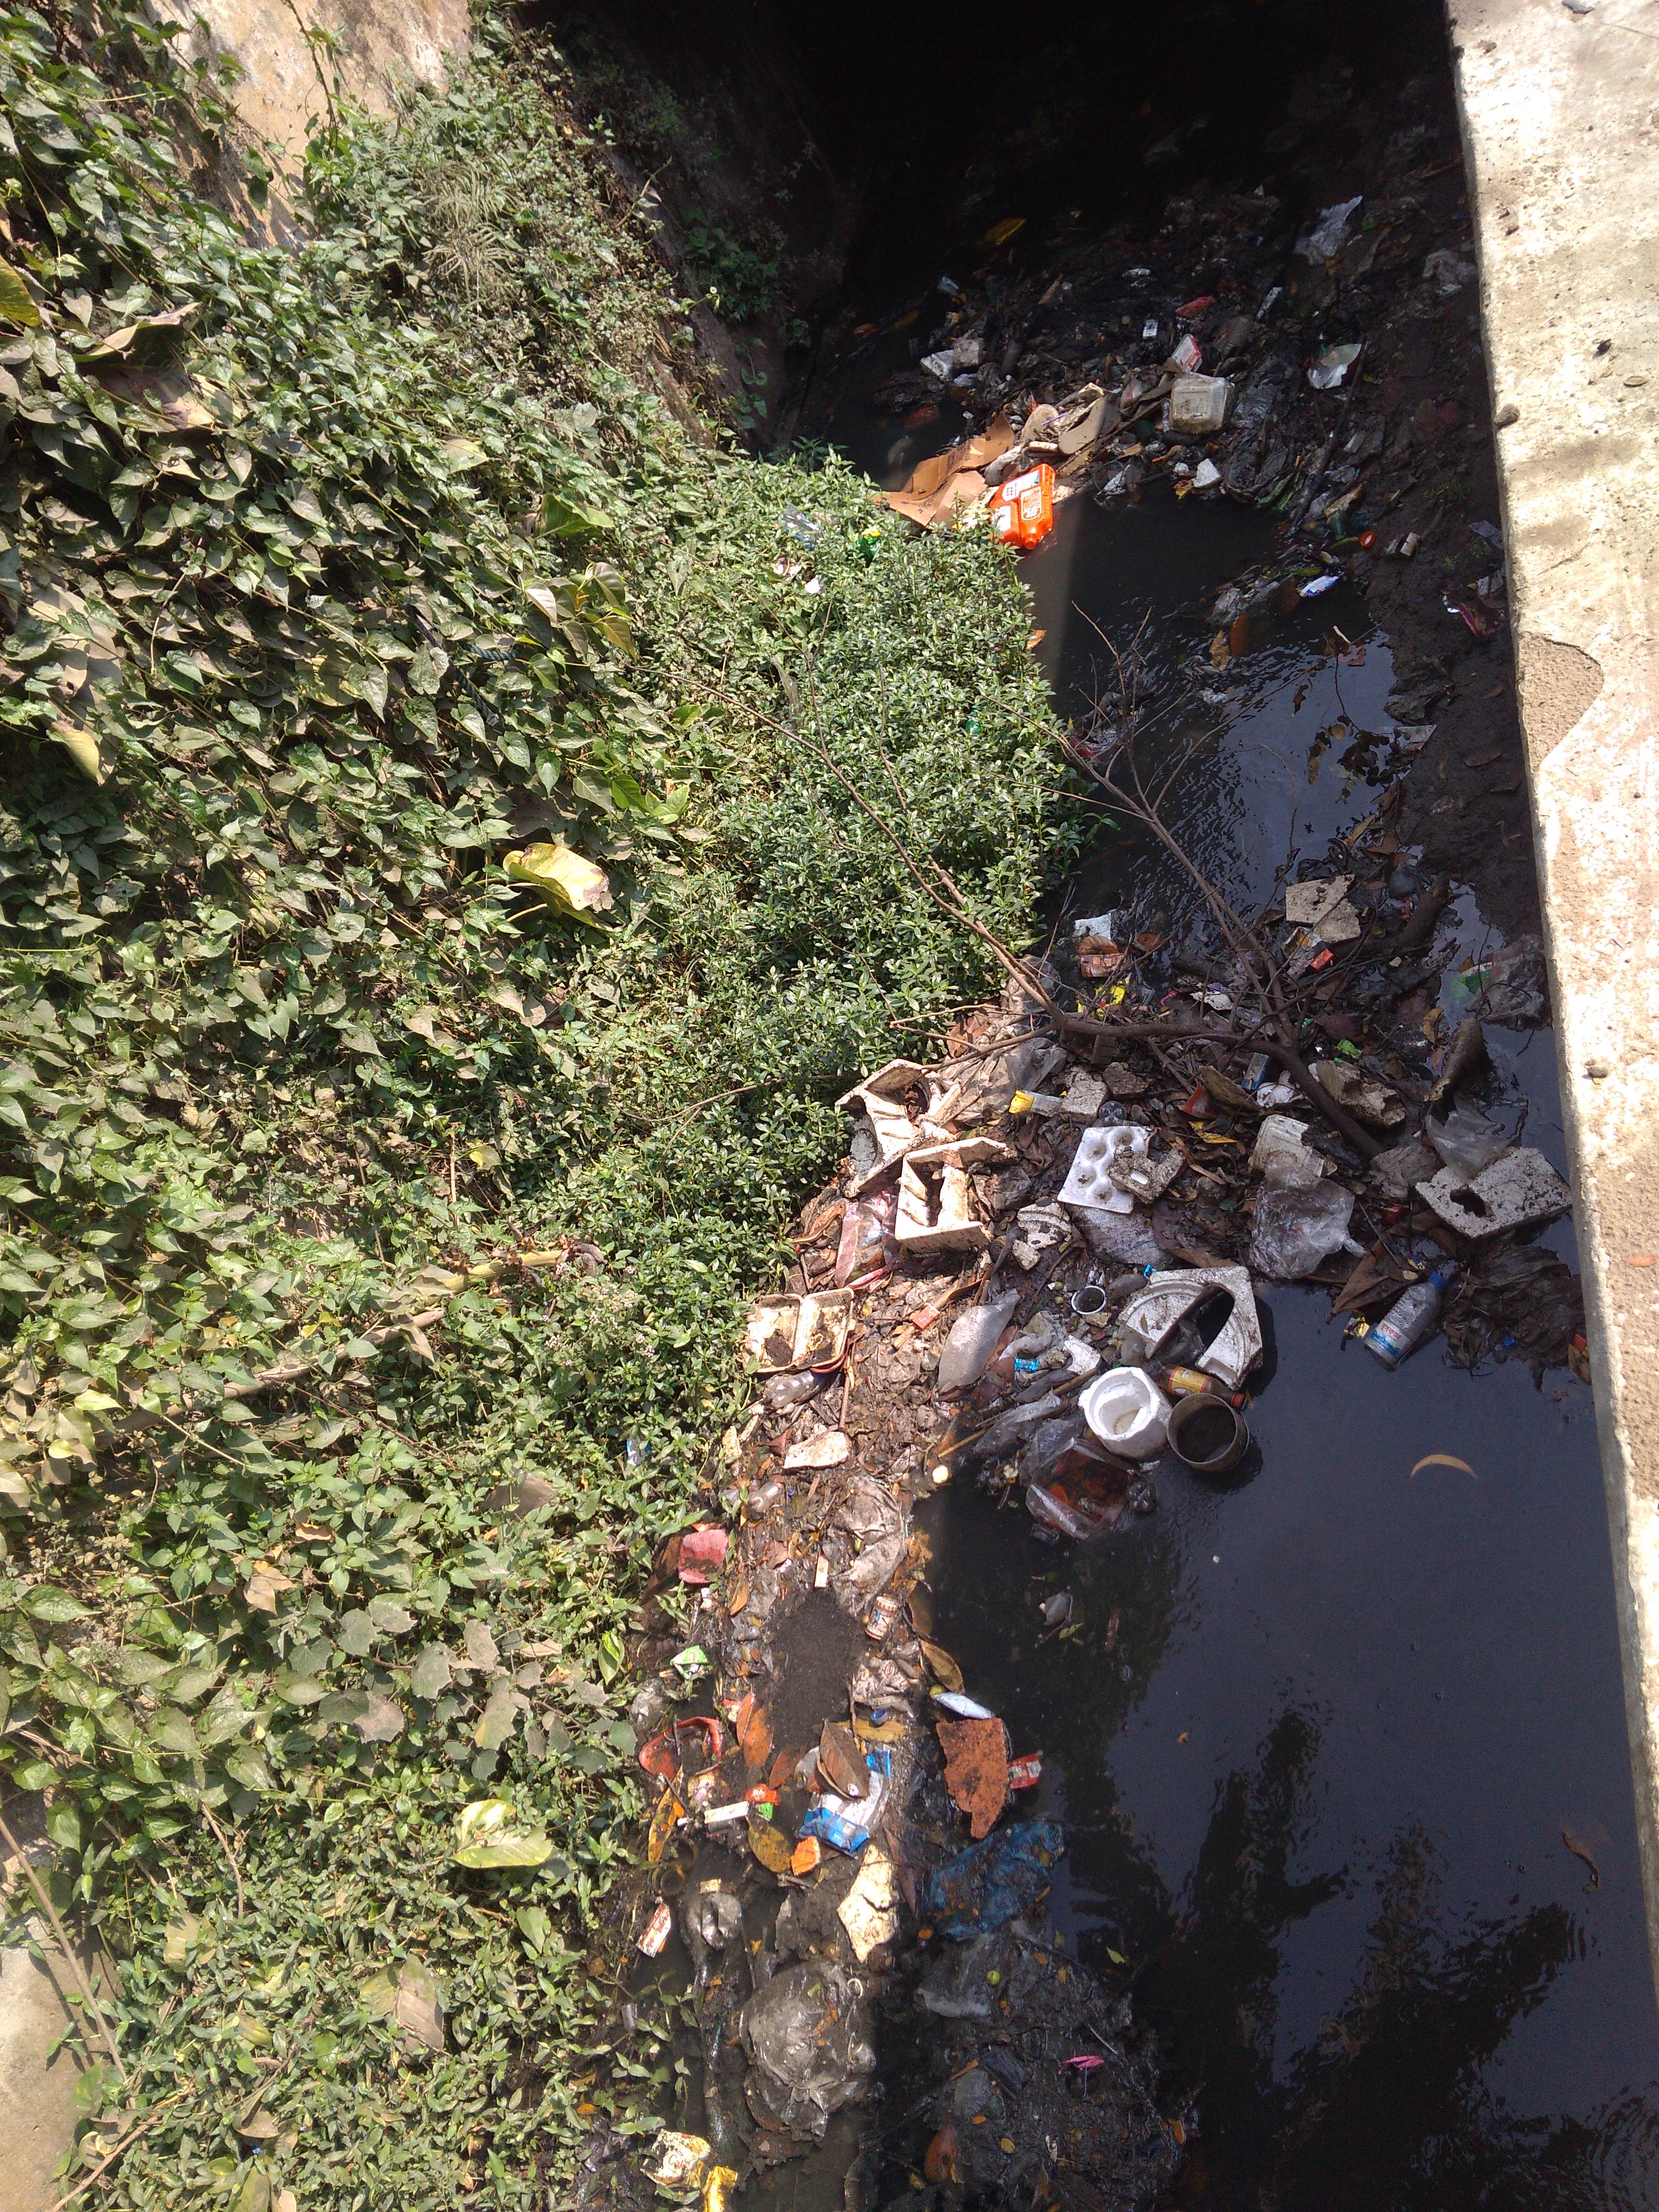Plastic Bottle: (1364, 1271, 1446, 1366), (1159, 1364, 1244, 1407), (988, 462, 1056, 503), (767, 1369, 824, 1407), (1018, 484, 1051, 549), (990, 498, 1019, 547), (748, 1480, 779, 1514), (938, 272, 971, 301), (1098, 1101, 1127, 1127), (1136, 420, 1155, 444), (1331, 510, 1345, 540)
